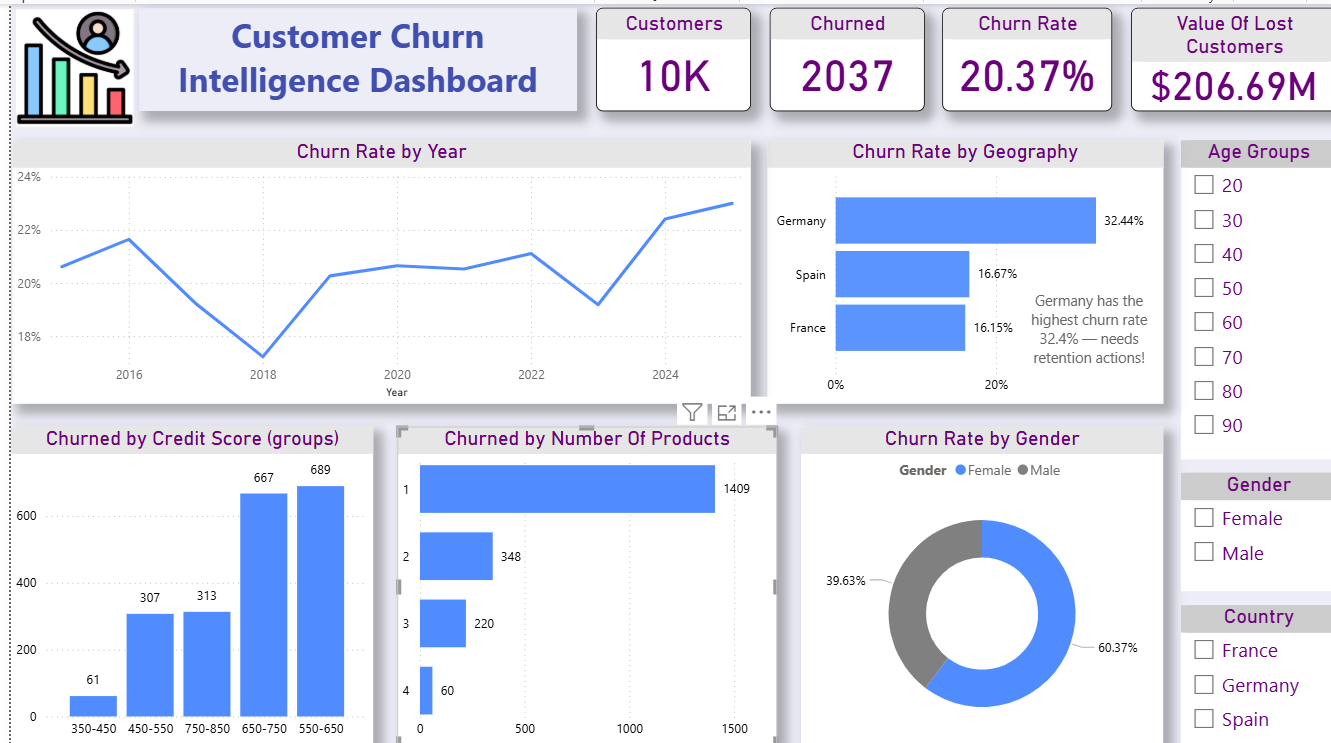

Layout of this report page (visuals, bound fields, positions):
{"tool":"powerbi","page":{"name":"Overview","canvas":[1280,720],"ordinal":0},"visuals":[{"type":"card","title":"Churned","fields":{"Values":["Dax_Measures.# Churned"]},"box":[731.9,3.9,149.6,100.1],"z":0},{"type":"card","title":"Churn Rate","fields":{"Values":["Churn_Modelling.churn Rate"]},"box":[899.2,3.9,164.1,100.1],"z":1000},{"type":"donutChart","fields":{"Category":["Churn_Modelling.Gender"],"Y":["Dax_Measures.churn Rate"]},"box":[762.5,407.8,349.9,310],"z":2000},{"type":"card","title":"Value Of Lost Customers","fields":{"Values":["Churn_Modelling.Total Salary of Churned"]},"box":[1080.9,3.9,199.1,100.1],"z":3000},{"type":"slicer","title":"Age Groups","fields":{"Values":["DimAge.Age (groups)"]},"box":[1129.2,131.5,150.8,307.6],"z":4000},{"type":"slicer","title":"Gender","fields":{"Values":["Churn_Modelling.Gender"]},"box":[1129.2,452.4,150.8,114.6],"z":5000},{"type":"slicer","title":"Country","fields":{"Values":["Churn_Modelling.Geography"]},"box":[1129.2,580.1,150.8,139.9],"z":6000},{"type":"lineStackedColumnComboChart","fields":{"Category":["Churn_Modelling.CreditScore (groups)"],"Y":["Dax_Measures.# Churned"]},"box":[0,407.8,349.9,310.1],"z":7000},{"type":"barChart","fields":{"Category":["Churn_Modelling.Geography"],"Y":["Dax_Measures.churn Rate"]},"box":[729.9,131.5,382.4,254.6],"z":8000},{"type":"clusteredBarChart","fields":{"Category":["Churn_Modelling.NumOfProducts"],"Y":["Dax_Measures.# Churned"]},"box":[372.8,407.8,366.8,310.1],"z":9000},{"type":"lineChart","fields":{"Y":["Dax_Measures.churn Rate"],"Category":["Churn_Modelling.Year"]},"box":[1.2,131.5,713,254.6],"z":10000},{"type":"card","title":"Customers","fields":{"Values":["Churn_Modelling.# Customers"]},"box":[564.6,3.9,149.6,100.1],"z":11000},{"type":"textbox","box":[978.4,271.4,124.3,102.5],"z":11001},{"type":"image","box":[0,0,123.1,123.1],"z":11002},{"type":"textbox","box":[123.1,3.6,423.5,100.1],"z":11003},{"type":"textbox","box":[445.2,621.3,287.1,56.7],"z":11004}]}

Visuals, with their boxes in screenshot pixels (x1, y1, x2, y2), scaled from the page's 1280x720 canvas onto the 1331x743 screenshot:
"Churned" card: left=761, top=4, right=917, bottom=107
"Churn Rate" card: left=935, top=4, right=1106, bottom=107
donutChart - Churn_Modelling.Gender x Dax_Measures.churn Rate: left=793, top=421, right=1157, bottom=741
"Value Of Lost Customers" card: left=1124, top=4, right=1330, bottom=107
"Age Groups" slicer: left=1174, top=136, right=1330, bottom=453
"Gender" slicer: left=1174, top=467, right=1330, bottom=585
"Country" slicer: left=1174, top=599, right=1330, bottom=742
lineStackedColumnComboChart - Churn_Modelling.CreditScore (groups) x Dax_Measures.# Churned: left=0, top=421, right=364, bottom=741
barChart - Churn_Modelling.Geography x Dax_Measures.churn Rate: left=759, top=136, right=1157, bottom=398
clusteredBarChart - Churn_Modelling.NumOfProducts x Dax_Measures.# Churned: left=388, top=421, right=769, bottom=741
lineChart - Dax_Measures.churn Rate x Churn_Modelling.Year: left=1, top=136, right=743, bottom=398
"Customers" card: left=587, top=4, right=743, bottom=107
textbox: left=1017, top=280, right=1147, bottom=386
image: left=0, top=0, right=128, bottom=127
textbox: left=128, top=4, right=568, bottom=107
textbox: left=463, top=641, right=761, bottom=700
